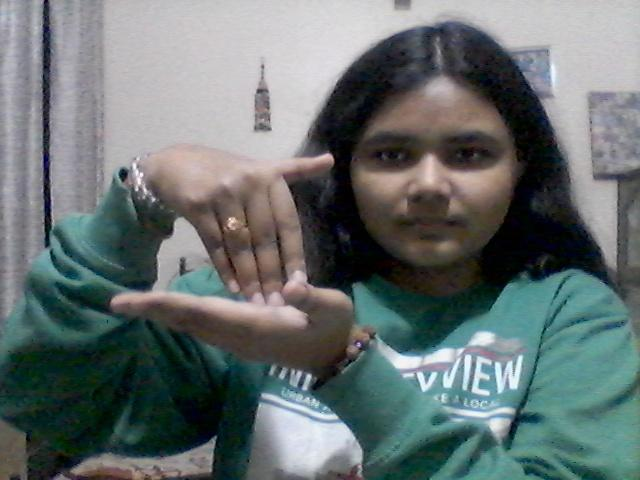repeat: (110, 140, 374, 374)
